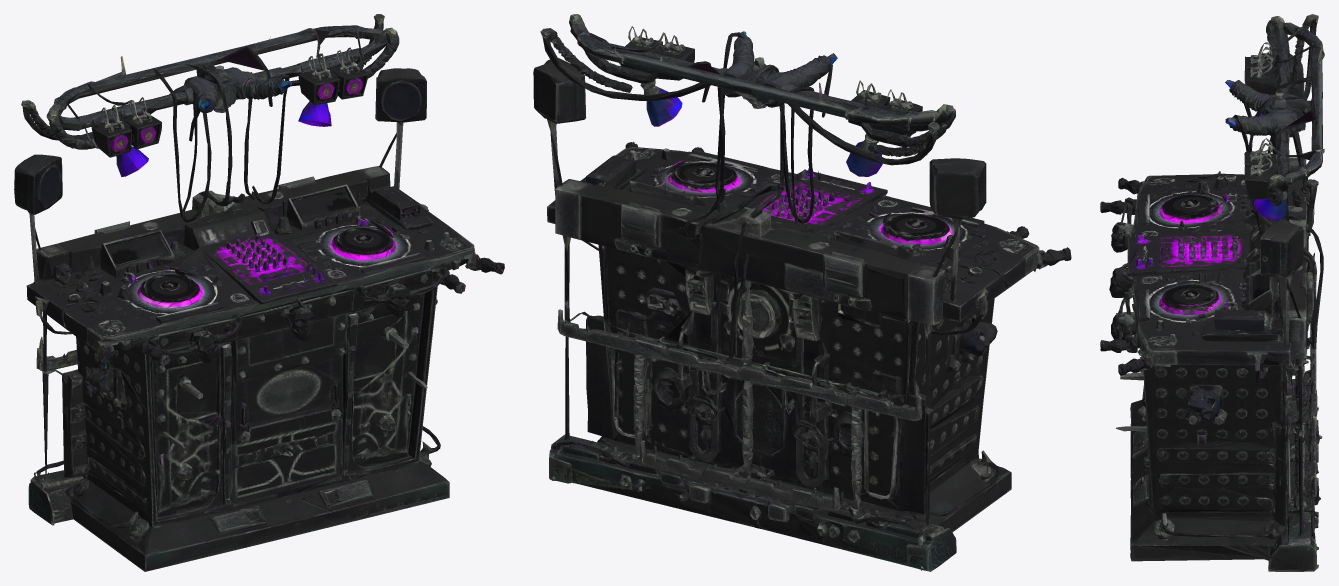
Rendered from dj_booth.glb.
The picture shows the model from 3 angles, left to right: view 1: azimuth 30°, elevation 25°; view 2: azimuth 150°, elevation 25°; view 3: azimuth 270°, elevation 25°; orthographic projection. The views are drawn at different scales.
Size of the model in its own units: 1.9 by 1.9 by 0.9433.
1 material, 1 textured.
